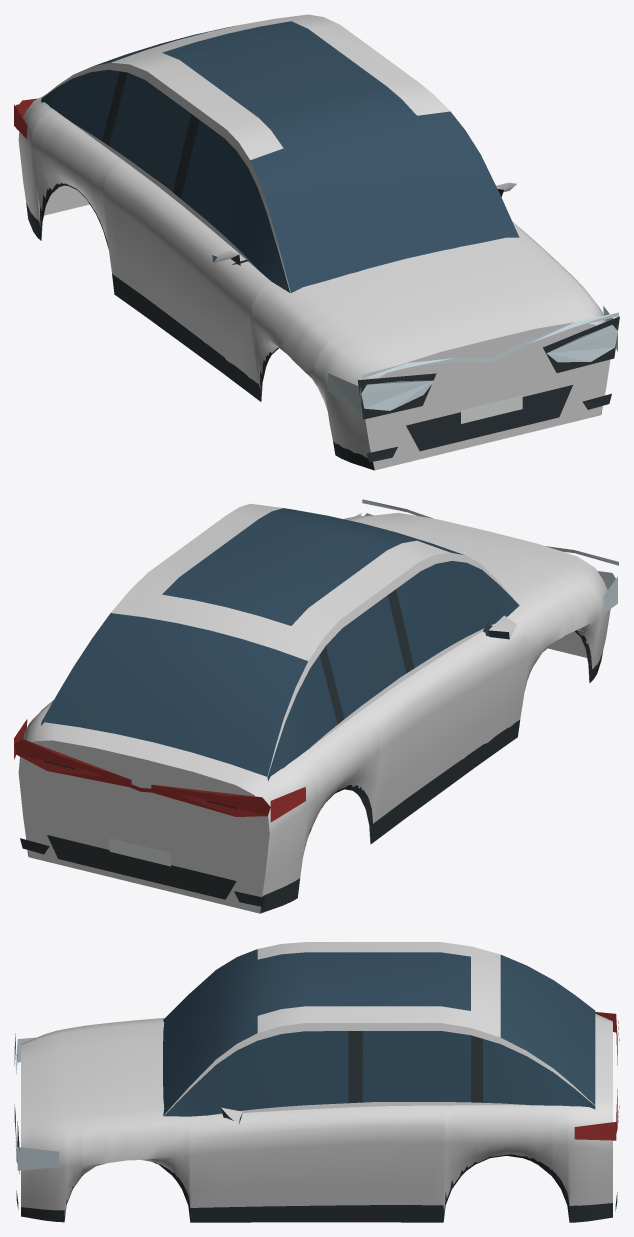
Rendered from veh_vf8-lod1.glb.
The picture shows the model from 3 angles, top to bottom: view 1: azimuth 30°, elevation 25°; view 2: azimuth 150°, elevation 25°; view 3: azimuth 270°, elevation 25°; orthographic projection. The views are drawn at different scales.
Visible parts, largest first — view 1: paint, glass, trim, head, plate; view 2: paint, glass, trim, tail, head, plate; view 3: paint, glass, trim, head, tail.
Boxes of the visible parts, left/top/right/bottom form: paint: left=18, top=14, right=610, bottom=470; glass: left=41, top=21, right=519, bottom=292; trim: left=26, top=71, right=619, bottom=470; head: left=327, top=306, right=618, bottom=414; plate: left=461, top=395, right=522, bottom=423; paint: left=18, top=503, right=610, bottom=913; glass: left=41, top=508, right=519, bottom=780; trim: left=20, top=589, right=602, bottom=913; tail: left=14, top=719, right=305, bottom=822; head: left=354, top=499, right=618, bottom=613; plate: left=109, top=838, right=170, bottom=866; paint: left=21, top=942, right=612, bottom=1215; glass: left=163, top=949, right=595, bottom=1123; trim: left=16, top=1031, right=617, bottom=1222; head: left=14, top=1033, right=59, bottom=1170; tail: left=574, top=1012, right=619, bottom=1140.
Bounding box in the file's own units: 1.61 × 1.15 × 3.27.
